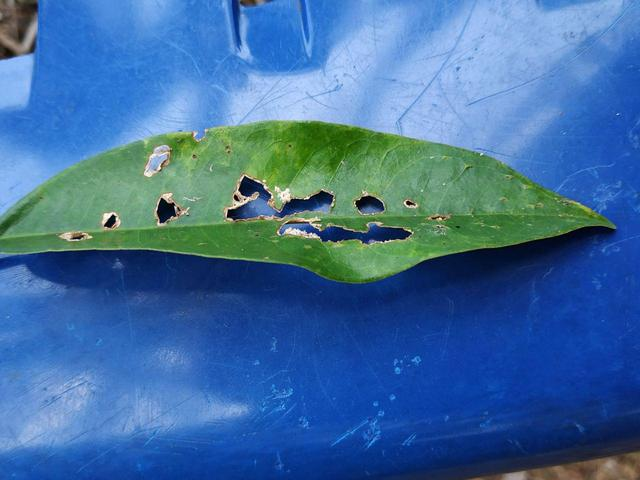blight spot: (220, 162, 471, 254), (148, 186, 188, 231), (144, 137, 178, 180), (57, 226, 91, 248), (97, 206, 122, 234)
